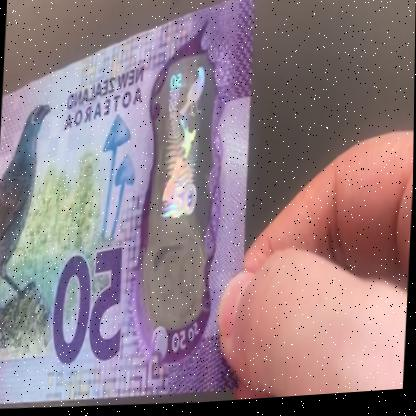50B: (156, 64, 211, 319)
